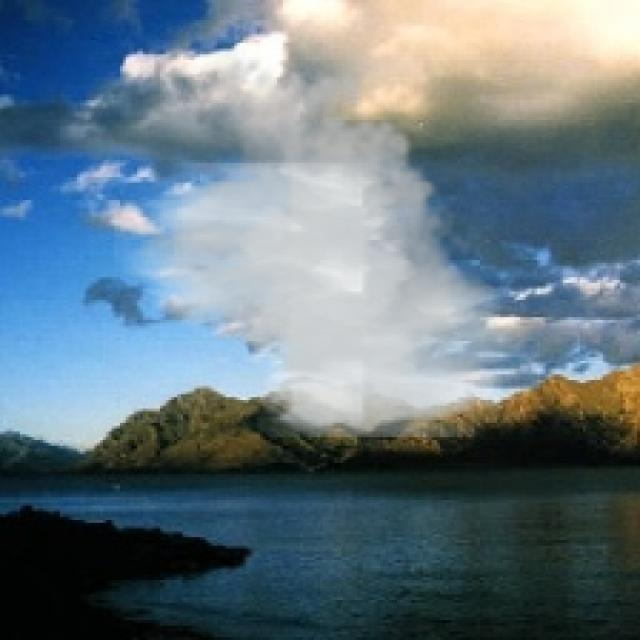smoke: (114, 46, 540, 437)
